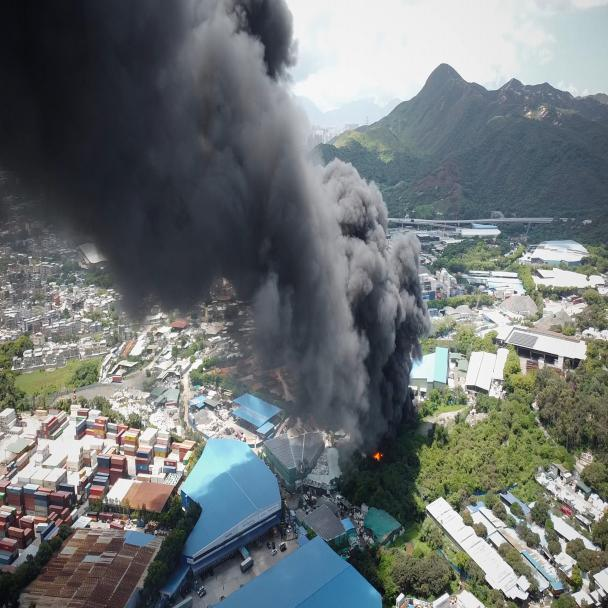Fire: (319, 406, 440, 486)
smoke: (1, 0, 444, 379)
